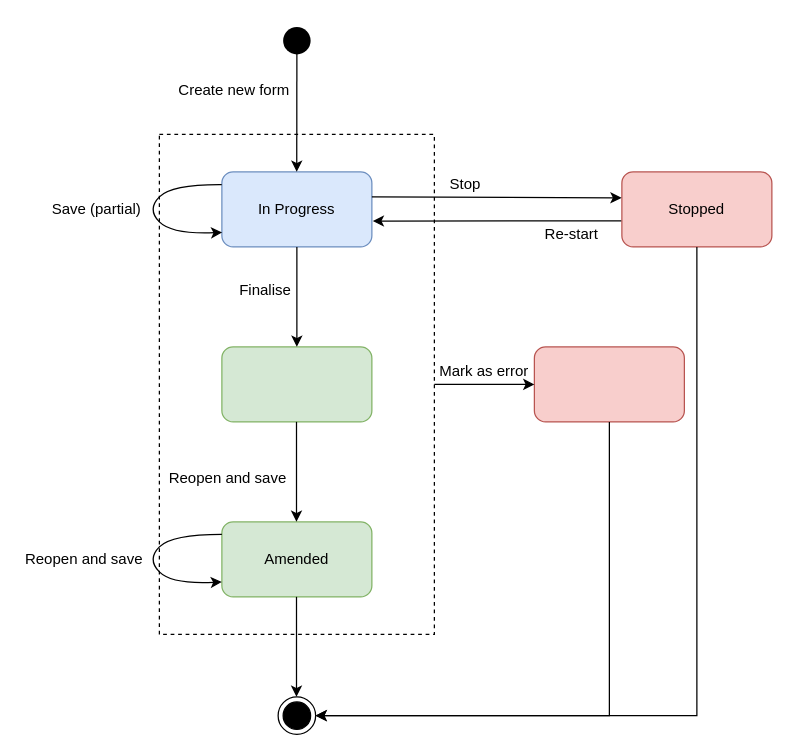
Some shapes in this 794 by 756 pixel diagram are drawn without their labels. The shapes that lost their labels are listed below. From the top down, each one's centre as x and y in pixels, then its label:
At (296,384): "Completed".
At (608,384): "Entered in Error".
